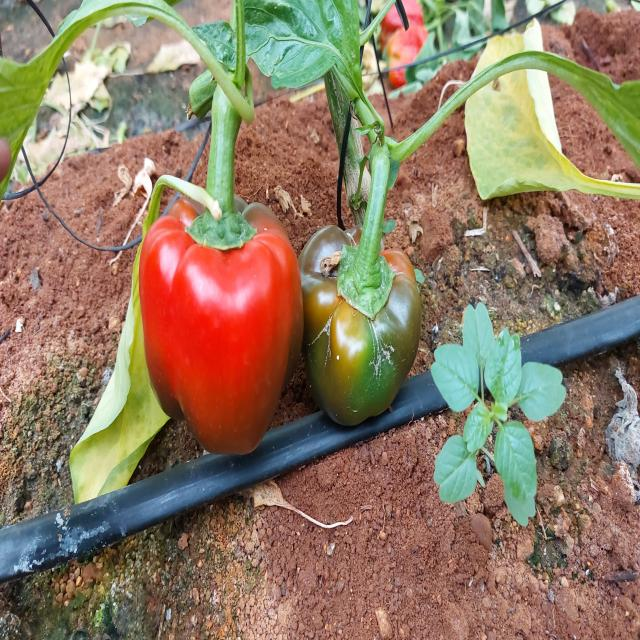Red-Ready-to-Harvest: (140, 182, 303, 452)
